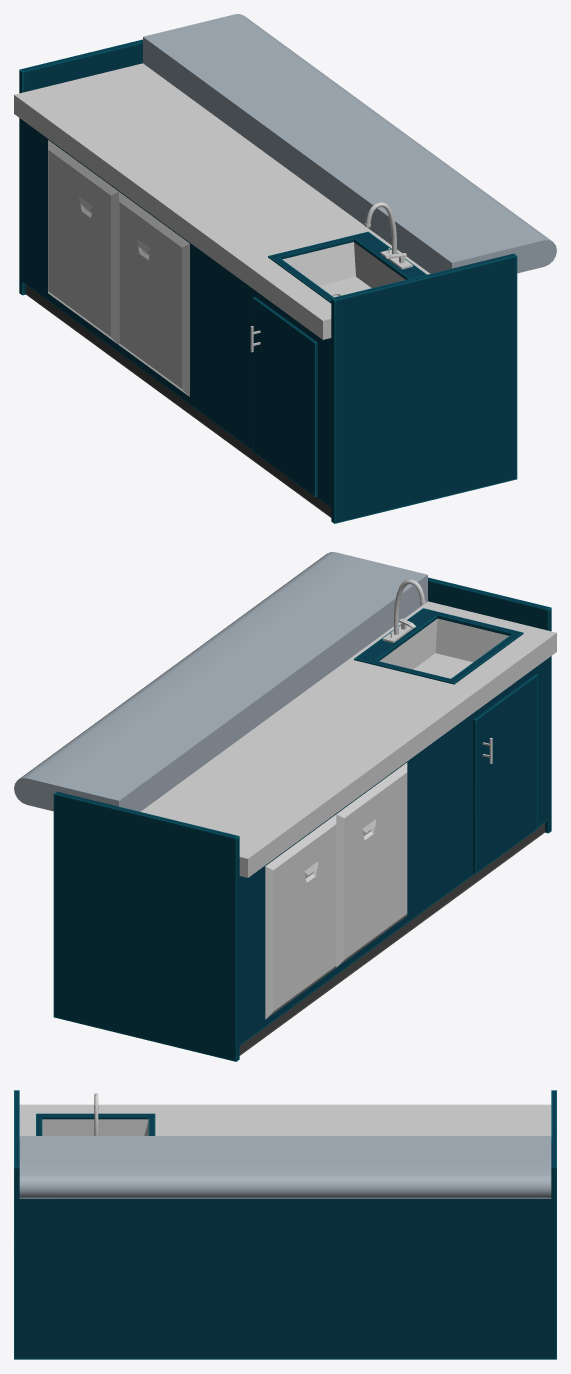
The model's file is bar_counter_lowpoly.glb.
3 views of the same model, one above another, from view 1: azimuth 30°, elevation 25°; view 2: azimuth 150°, elevation 25°; view 3: azimuth 270°, elevation 25° (orthographic). The views are drawn at different scales.
Visible parts, largest first — view 1: Bancone; view 2: Bancone; view 3: Bancone.
Boxes of the visible parts, x1,y1,x2,y2 form: Bancone: (14,14,556,523); Bancone: (14,552,556,1061); Bancone: (14,1090,556,1359).
Bounding box in the file's own units: 1.3 × 1.38 × 2.99.
1 material, 1 textured.
